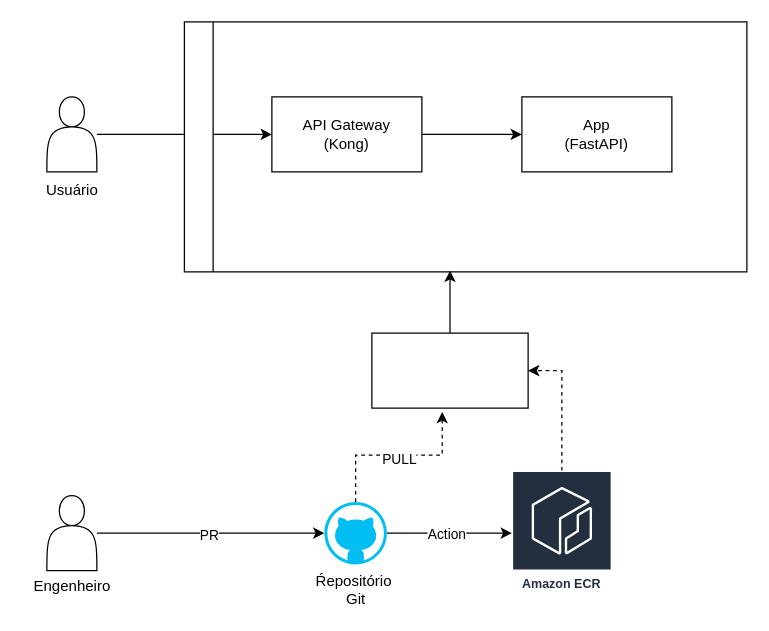
Some shapes in this 769 by 631 pixel diagram are drawn without their labels. The box of each missing label's shape, as (x1, y1, x2, y2) in pixels:
ArgoCD: (371, 332, 528, 408)
Cluster Kubernetes: (183, 21, 747, 272)
